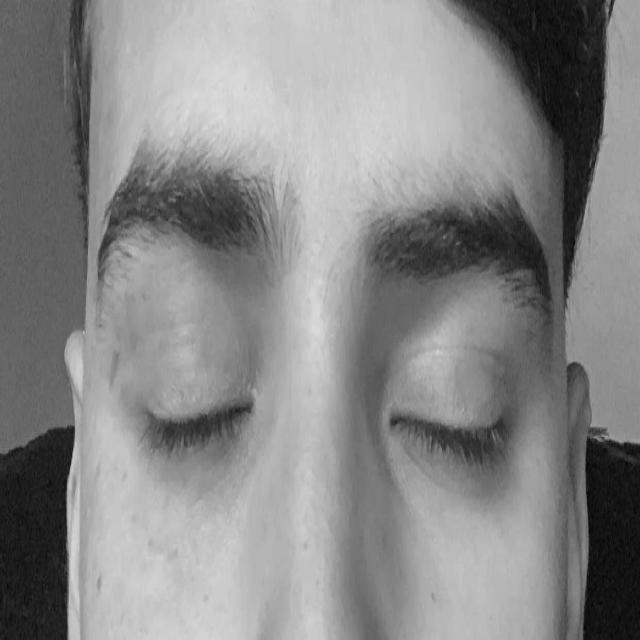real: (110, 168, 547, 533)
